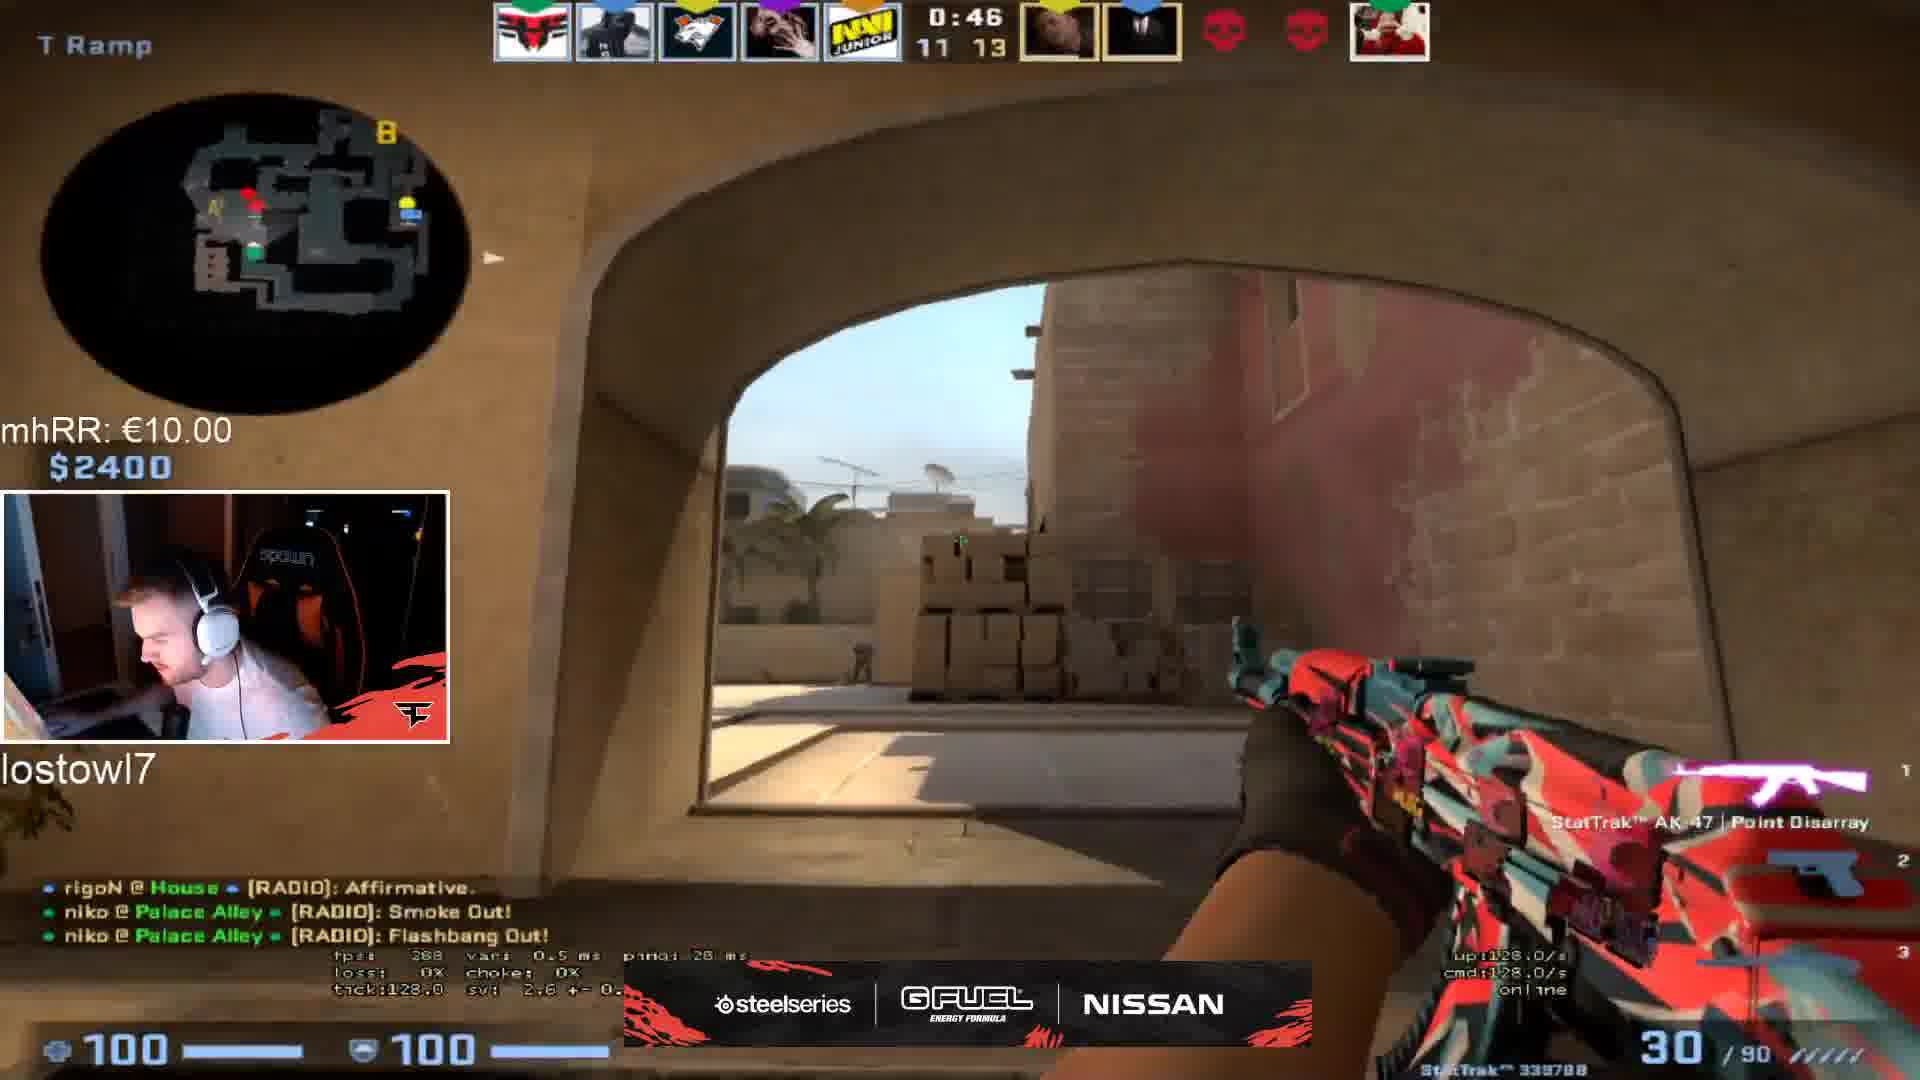enemy: (844, 640, 880, 692)
